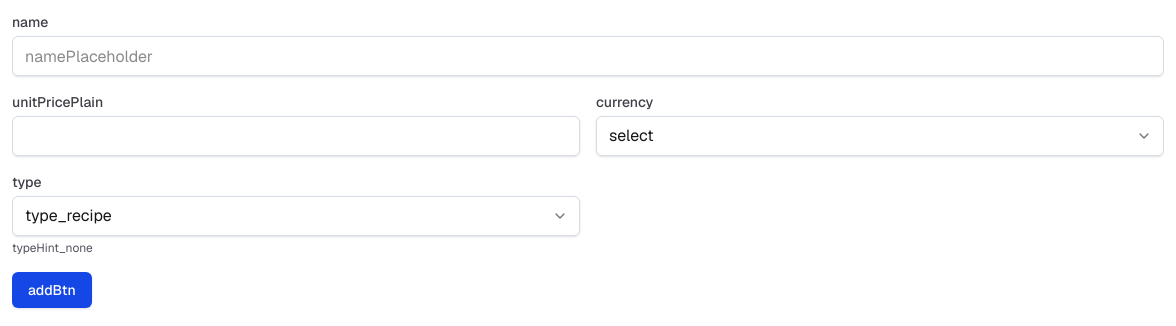
Test: CatalogForm guided combo and recipe kinds › hides role/stock when Recipe is selected but keeps the sale unit choice
The width and height of the screenshot is (1176, 326).
Step 1. Select "type_recipe" in the dropdown with id "type" → (296, 216), box 12,196 -> 580,236
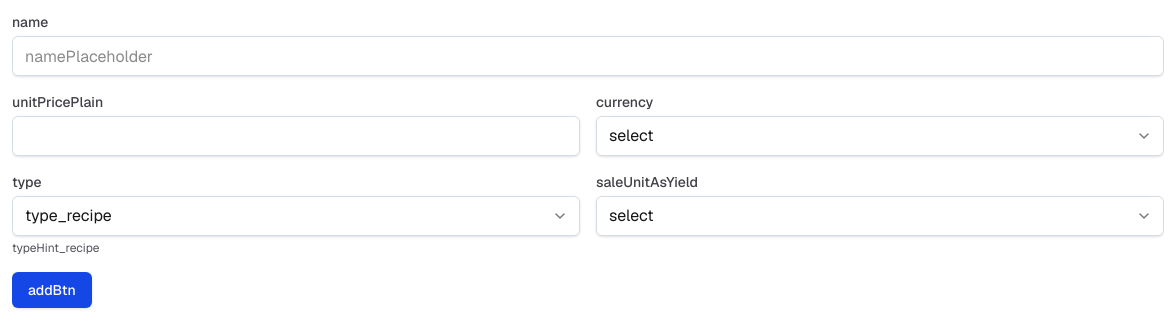
Check: the field with id "unitPrice" is shown, box 12,116 -> 580,156
Check: the dropdown with id "saleUnit" is shown, box 596,196 -> 1164,236
